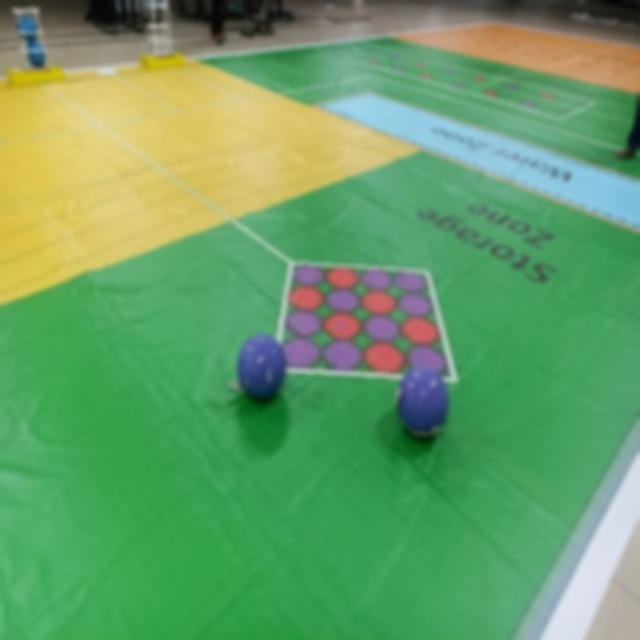blue_ball: (25, 44, 48, 67), (17, 16, 37, 42)
purple_ball: (399, 368, 452, 440), (238, 331, 291, 398)
silo: (12, 6, 50, 72), (148, 3, 172, 57)
